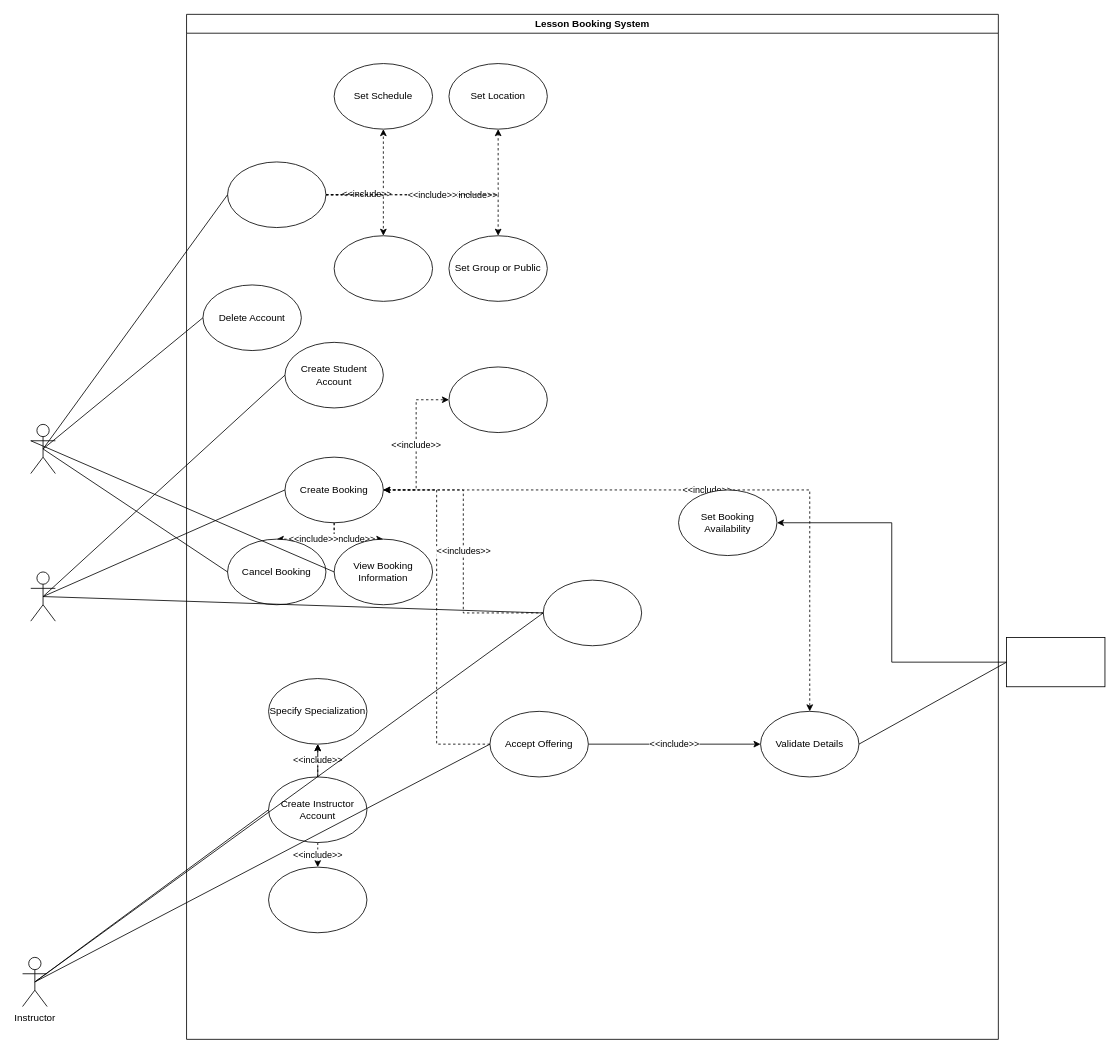
Image size: 1119x1054. Some labels were removed from this diagram. Each missing label, with the box of its shape:
<<System>>: (1006, 637, 1105, 687)
Administrator: (30, 424, 55, 474)
Create Child Booking: (448, 366, 547, 433)
Create Offering: (227, 161, 326, 228)
Set Interval of Time (months): (333, 235, 433, 301)
Specify Available Locations: (268, 866, 367, 933)
Student: (30, 571, 55, 621)
View Offerings: (542, 579, 642, 646)
